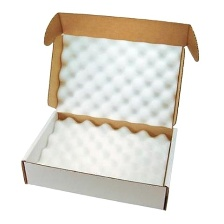foam_box: (50, 30, 187, 130), (30, 114, 177, 190)
